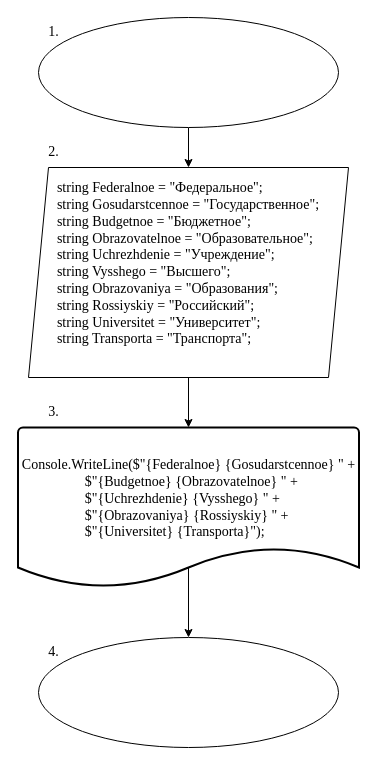
The diagram is 377 pixels wide and 765 high, and some of its shapes have lost their labels. Each missing label, with the box of its shape:
Конец: (38, 636, 338, 748)
Начало: (38, 16, 338, 128)
